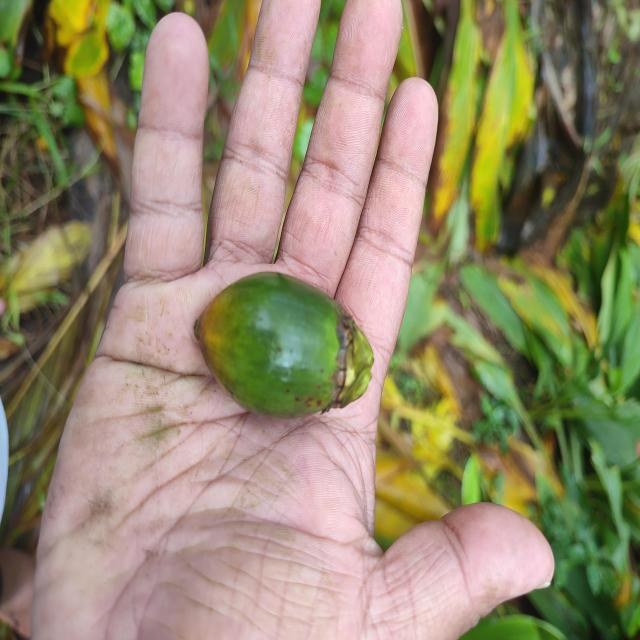good: (192, 272, 375, 420)
